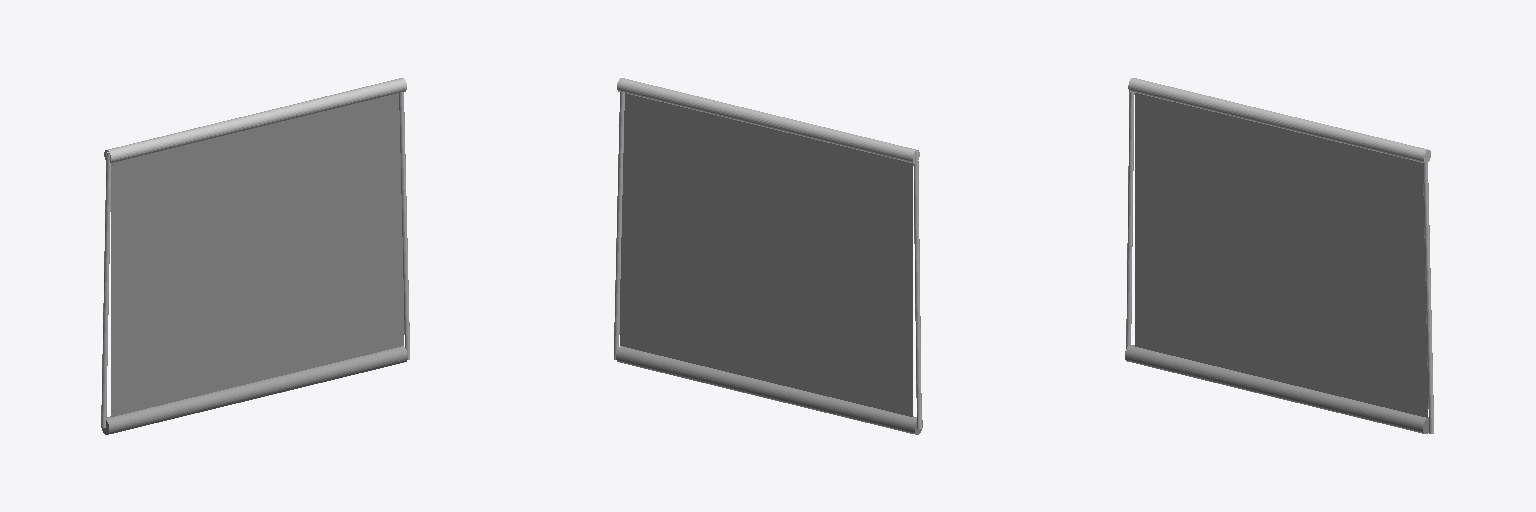
File: Water.obj
3 renders of one model, left to right at view 1: azimuth 30°, elevation 25°; view 2: azimuth 150°, elevation 25°; view 3: azimuth 330°, elevation 25°, orthographic.
Parts seen in each view (by area): view 1: Plane, Cylinder, Cylinder.001, Cylinder.003, Cylinder.002; view 2: Plane, Cylinder, Cylinder.001, Cylinder.003, Cylinder.002; view 3: Plane, Cylinder, Cylinder.001, Cylinder.002, Cylinder.003.
Boxes of the visible parts, box(x1,y1,x2,y2) form: Plane: box(111, 93, 403, 416); Cylinder: box(102, 346, 407, 434); Cylinder.001: box(104, 78, 406, 162); Cylinder.003: box(101, 152, 110, 427); Cylinder.002: box(399, 92, 409, 359); Plane: box(620, 93, 912, 416); Cylinder: box(616, 346, 922, 434); Cylinder.001: box(617, 78, 919, 163); Cylinder.003: box(913, 151, 921, 428); Cylinder.002: box(614, 92, 624, 359); Plane: box(1135, 93, 1427, 417); Cylinder: box(1125, 345, 1428, 433); Cylinder.001: box(1128, 78, 1430, 163); Cylinder.002: box(1423, 160, 1433, 433); Cylinder.003: box(1126, 79, 1134, 348).
Size of the model in its own units: 6.98 by 6.14 by 0.3404.